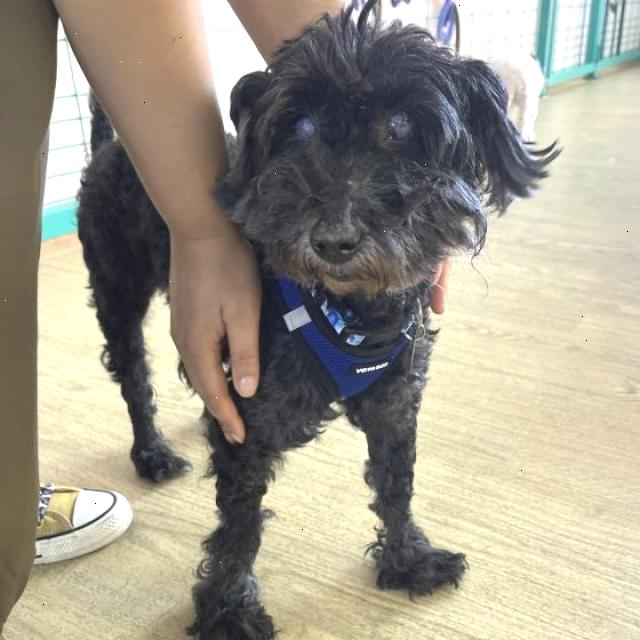Poodle_dog: (210, 8, 568, 308)
